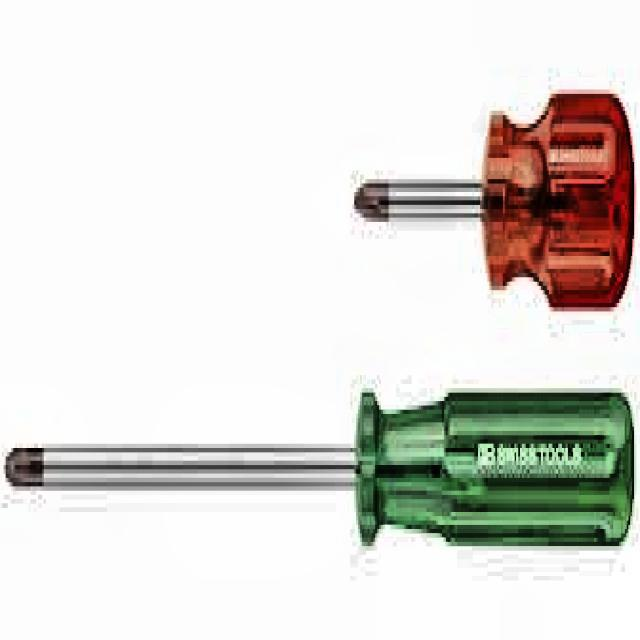screwdriver: (6, 392, 634, 556), (355, 88, 635, 310)
